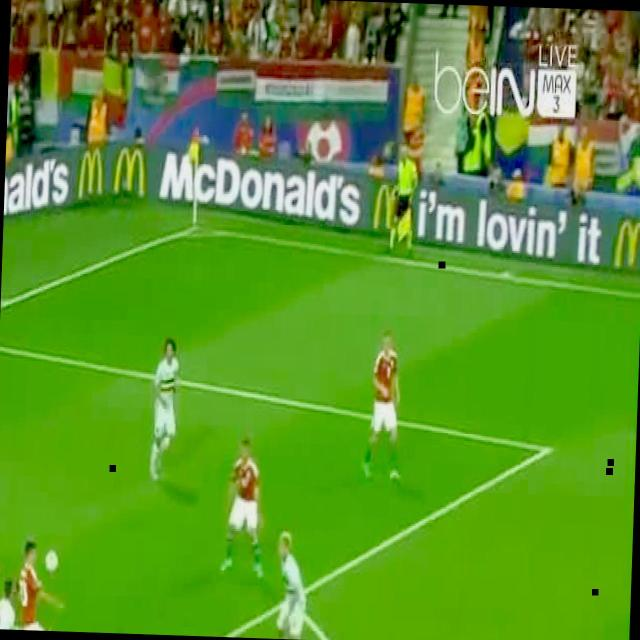ball: (44, 549, 58, 573)
player-white: (361, 333, 405, 482), (220, 440, 266, 577), (16, 537, 74, 631), (270, 528, 318, 640), (149, 339, 181, 483), (389, 147, 417, 257), (0, 578, 35, 630)
